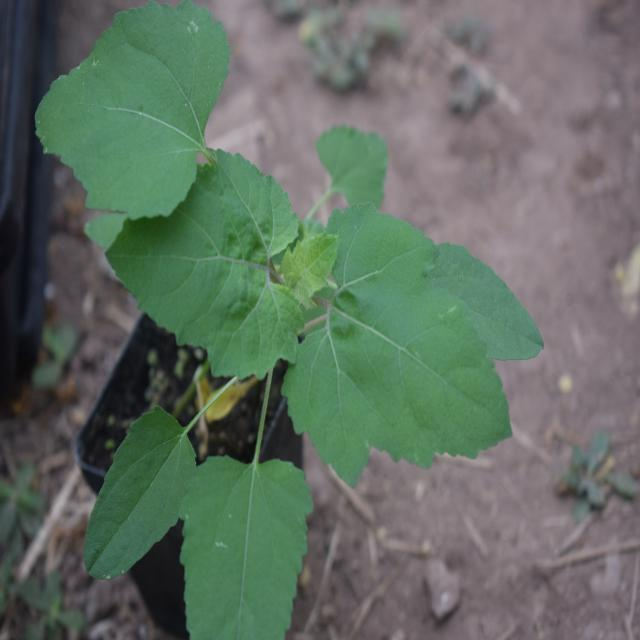cocklebur: (49, 23, 502, 557)
